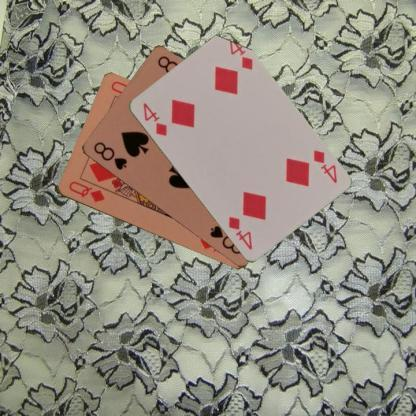4d: (140, 100, 168, 138), (310, 147, 338, 184)
8s: (90, 139, 128, 172)
Qd: (66, 178, 106, 204)
